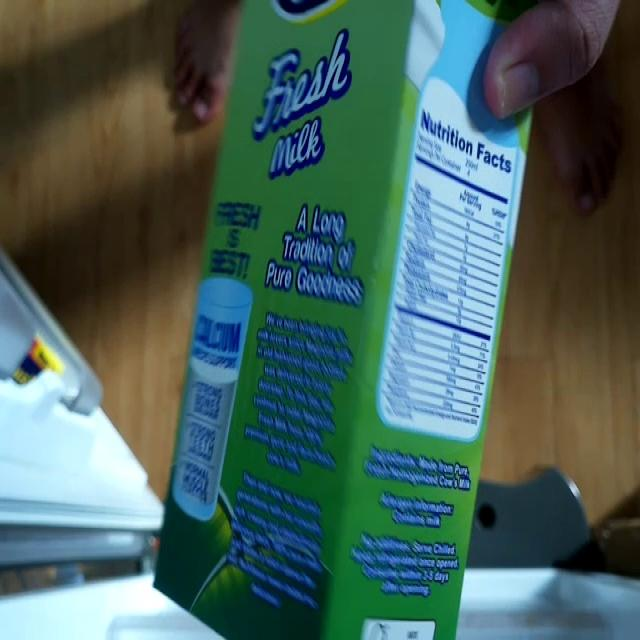milk: (150, 4, 551, 632)
